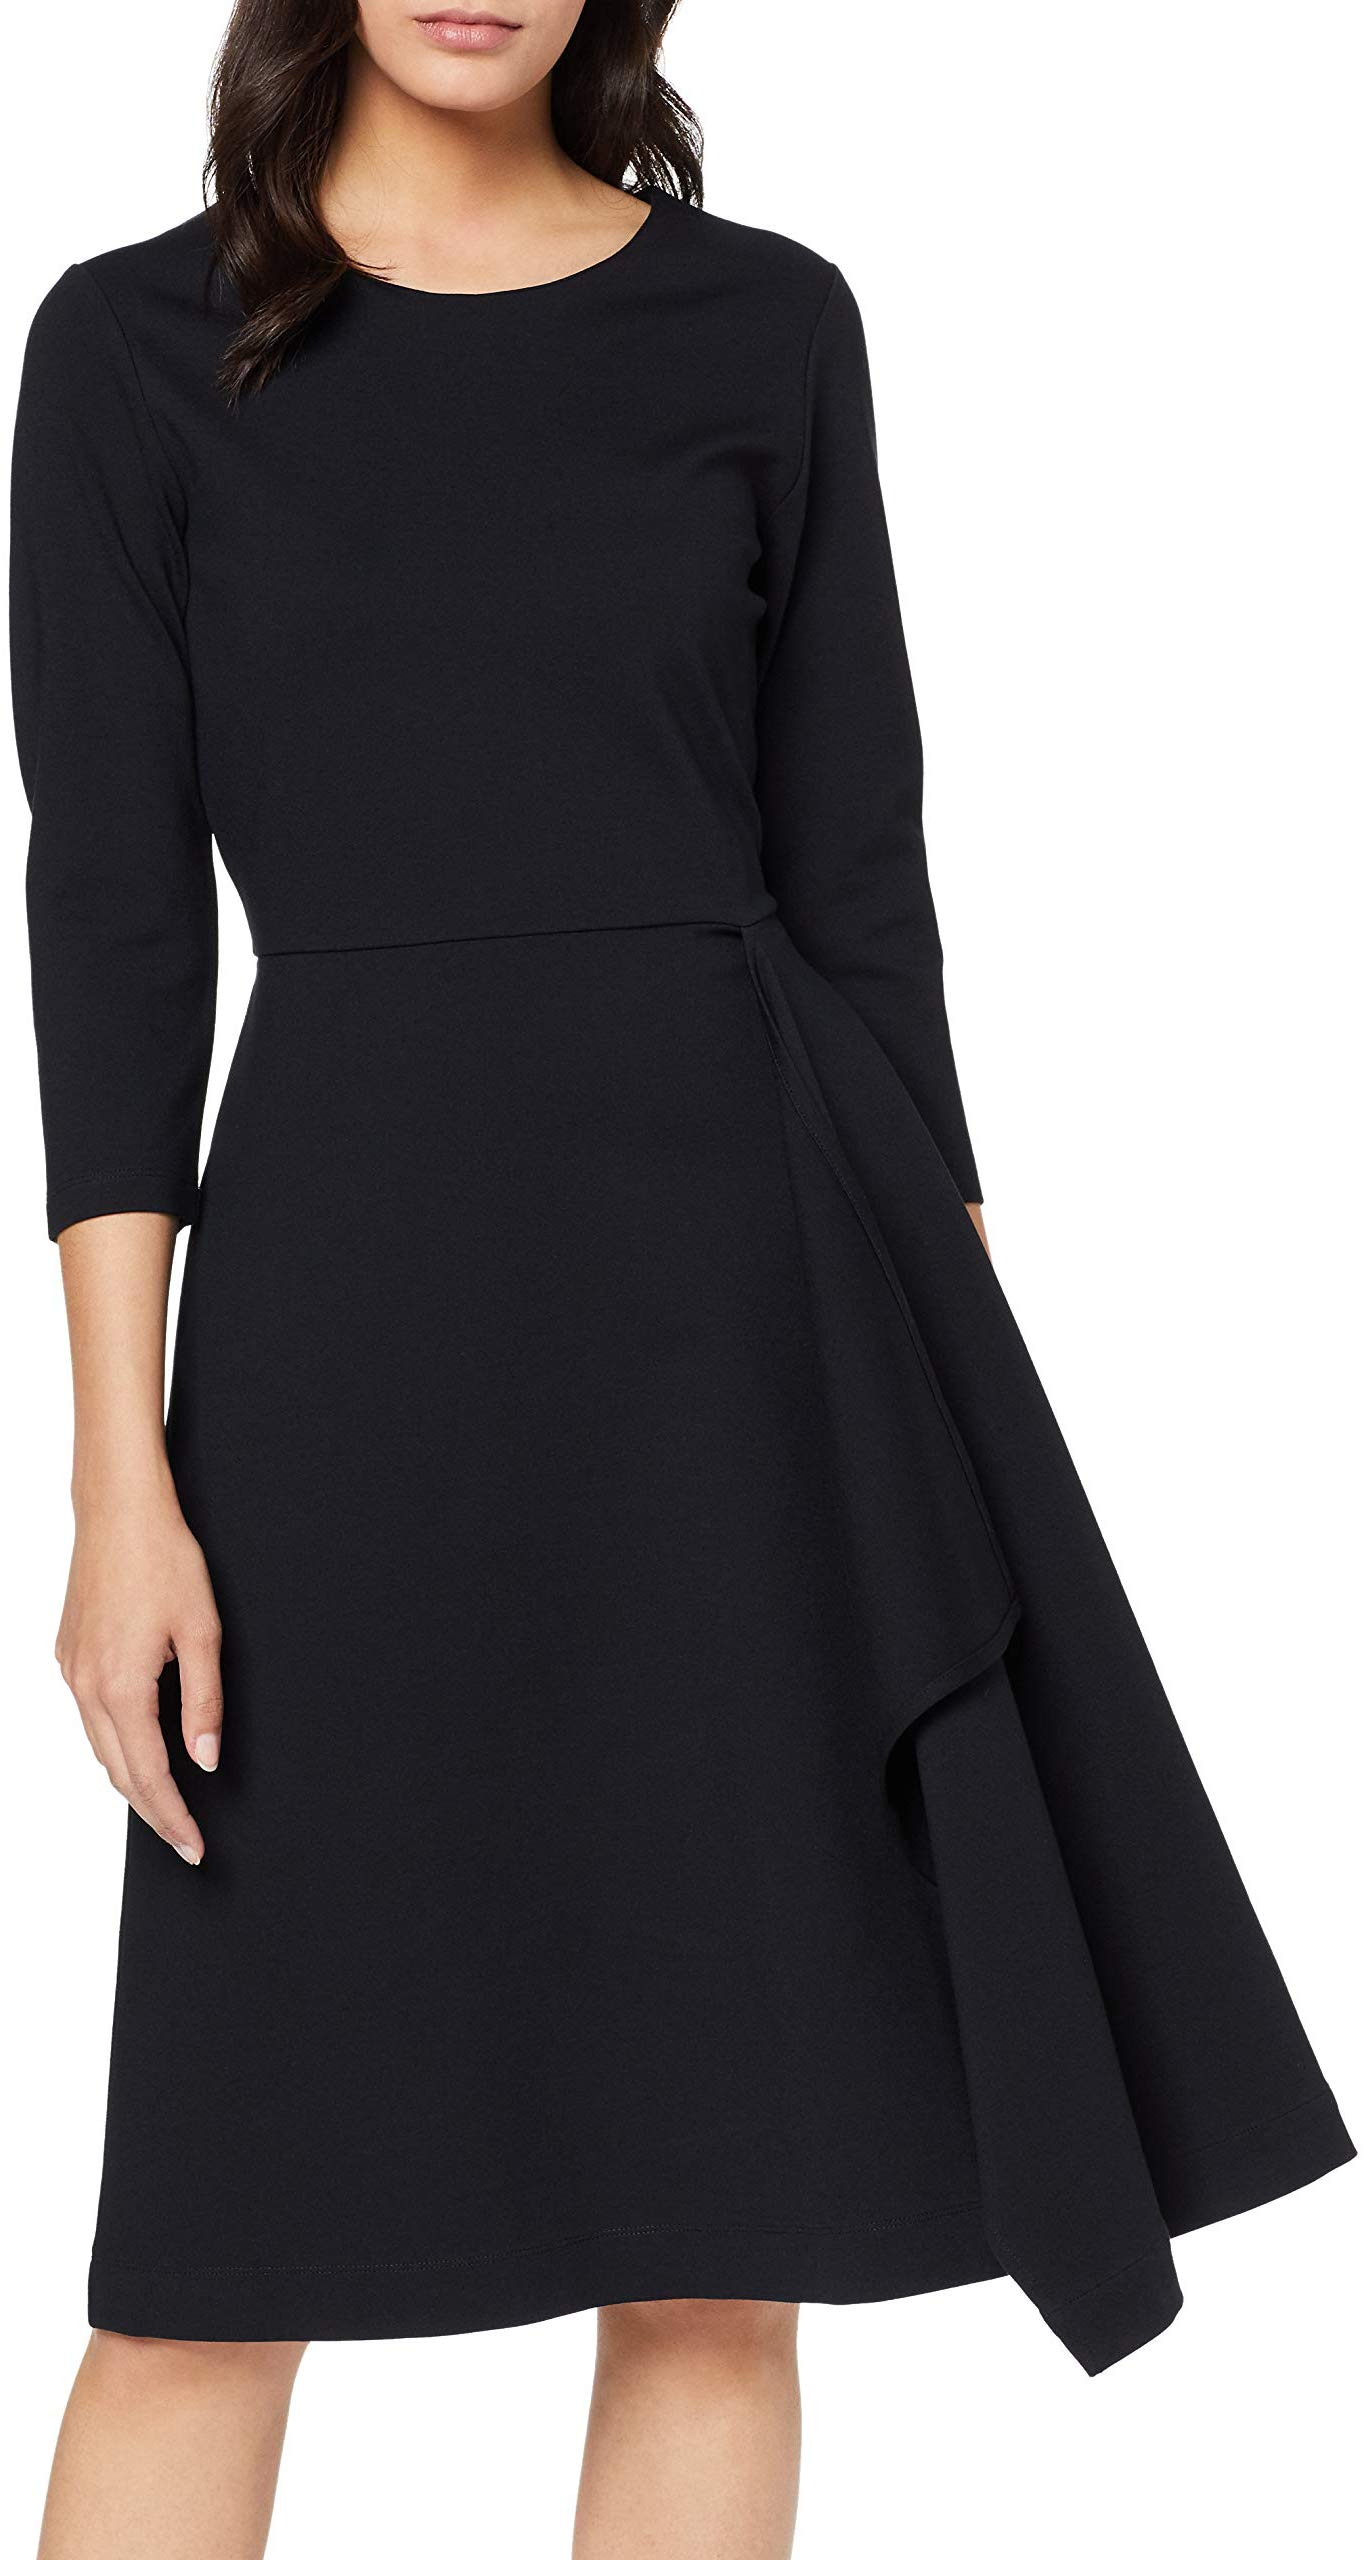S_dress: (7, 220, 1320, 2348)
